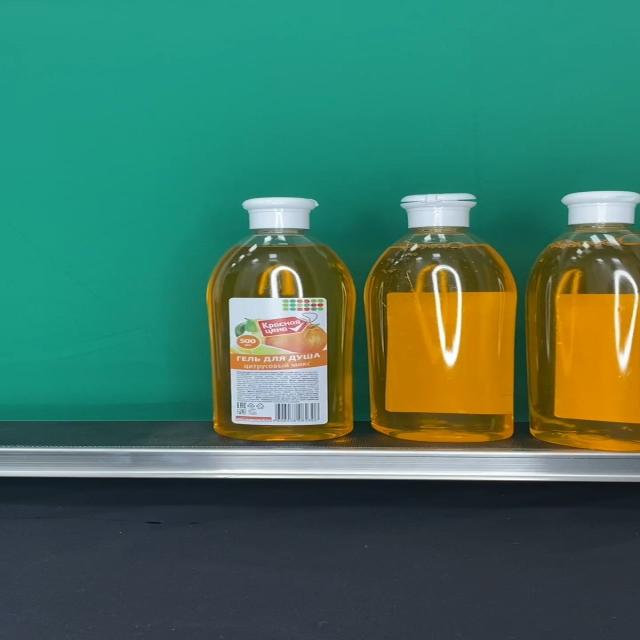Bottle: (364, 193, 518, 442), (207, 197, 356, 440), (525, 190, 640, 451)
Cap: (560, 190, 640, 226), (241, 197, 319, 231), (400, 193, 476, 227)
